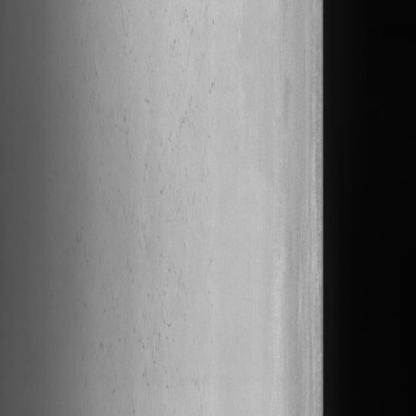silk_spot: (108, 87, 205, 402)
